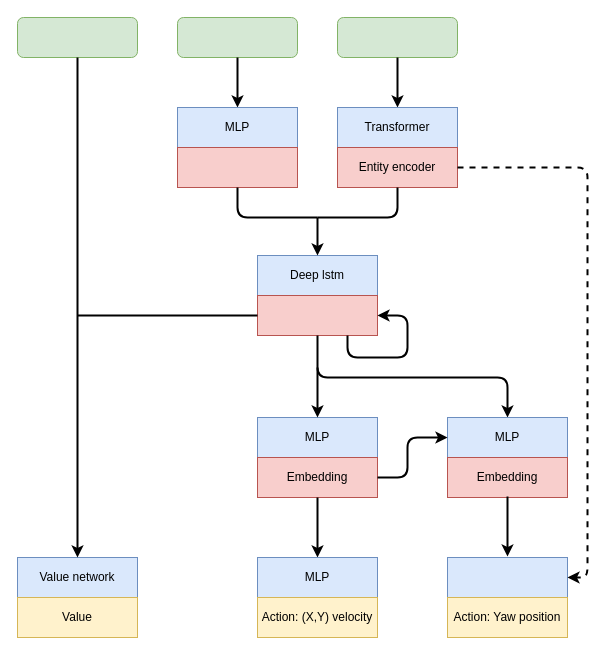
This 614x655 diagram has some shape labels left out. Here are the shapes that lost their labels. From the top down, the centre of each, then its label:
(x=77, y=37): Baseline features
(x=237, y=37): Scalar features
(x=397, y=37): Entities
(x=237, y=167): Scalar encoder
(x=317, y=315): Core
(x=507, y=577): Attention
